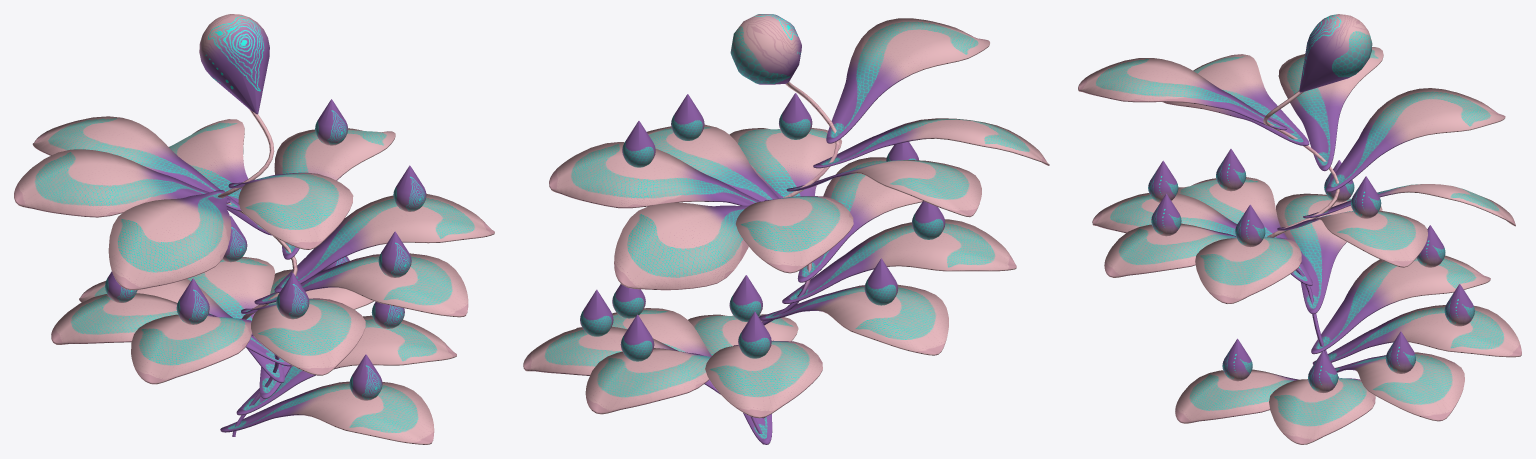
File: Modelos-2.fbx
The picture shows the model from 3 angles, left to right: view 1: azimuth 30°, elevation 25°; view 2: azimuth 150°, elevation 25°; view 3: azimuth 270°, elevation 25°; orthographic projection. The views are drawn at different scales.
Parts seen in each view (by area): view 1: Hoja2_low.013, Hoja2_low.011, Hoja2_low.008, Hoja2_low.007, Hoja2_low.012, Hoja2_low.015, Hoja2_low.004, Hoja2_low.005, Hoja2_low.014, Gota2_low, Hoja2_low, Hoja2_low.003 (+15 smaller); view 2: Hoja2_low.009, Hoja2_low.010, Hoja2_low.012, Hoja2_low.005, Hoja2_low.003, Hoja2_low.014, Hoja2_low.006, Hoja2_low.001, Hoja2_low.015, Hoja2_low.011, Hoja2_low.013, Hoja2_low.008 (+16 smaller); view 3: Hoja2_low.014, Hoja2_low.006, Hoja2_low.012, Hoja2_low.001, Hoja2_low.008, Hoja2_low.002, Hoja2_low, Hoja2_low.011, Hoja2_low.015, Hoja2_low.007, Hoja2_low.003, Hoja2_low.010 (+17 smaller).
Boxes of the visible parts, x1,y1,x2,y2 form: Hoja2_low.013: (108,190,231,290); Hoja2_low.011: (14,149,230,217); Hoja2_low.008: (274,193,494,292); Hoja2_low.007: (220,381,434,444); Hoja2_low.012: (228,172,353,249); Hoja2_low.015: (254,253,468,317); Hoja2_low.004: (241,298,365,375); Hoja2_low.005: (131,314,251,384); Hoja2_low.014: (32,116,241,211); Gota2_low: (199,14,269,114); Hoja2_low: (236,315,456,415); Hoja2_low.003: (51,293,253,344); Hoja2_low.009: (614,202,749,290); Hoja2_low.010: (549,142,760,208); Hoja2_low.012: (826,18,989,143); Hoja2_low.005: (782,219,1016,303); Hoja2_low.003: (759,284,948,355); Hoja2_low.014: (736,196,853,273); Hoja2_low.006: (705,340,822,418); Hoja2_low.001: (585,348,710,414); Hoja2_low.015: (729,128,841,198); Hoja2_low.011: (786,160,981,217); Hoja2_low.013: (813,118,1049,168); Hoja2_low.008: (647,124,778,201); Hoja2_low.014: (1326,88,1505,192); Hoja2_low.006: (1311,255,1490,354); Hoja2_low.012: (1078,58,1287,130); Hoja2_low.001: (1312,305,1521,364); Hoja2_low.008: (1195,237,1301,303); Hoja2_low.002: (1335,352,1464,421); Hoja2_low: (1269,378,1375,444); Hoja2_low.011: (1278,47,1383,171); Hoja2_low.015: (1104,223,1236,277); Hoja2_low.007: (1175,369,1298,423); Hoja2_low.003: (1276,193,1382,314); Hoja2_low.010: (1277,210,1427,267).
Size of the model in its own units: 4633 by 4546 by 4747.
